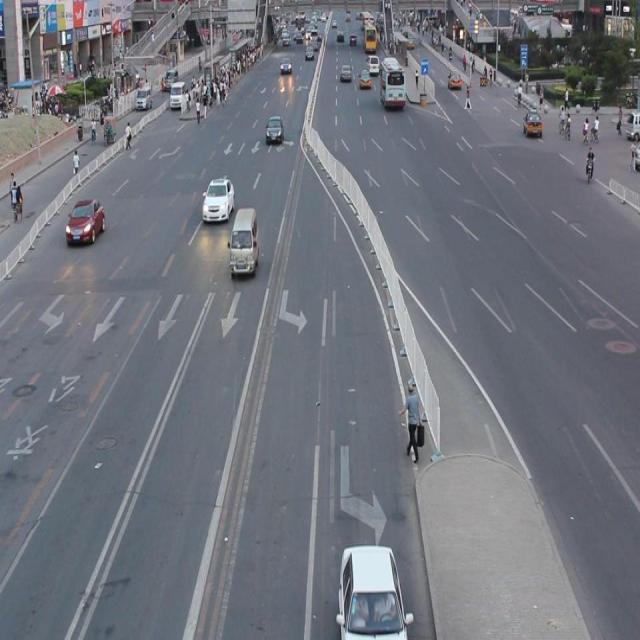car: (337, 538, 406, 640), (66, 197, 105, 245), (201, 177, 234, 221)
truck: (229, 208, 258, 274)
